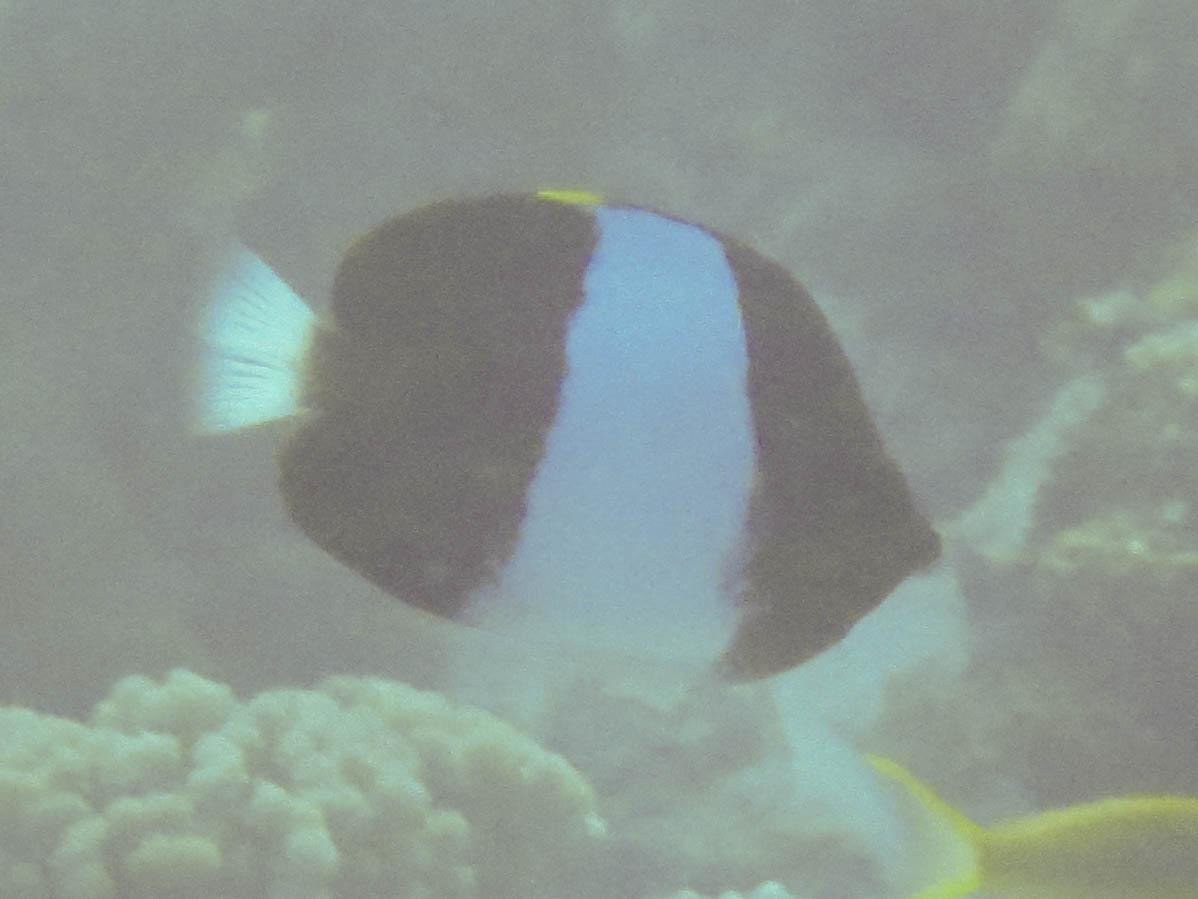Fish: (143, 160, 972, 730)
